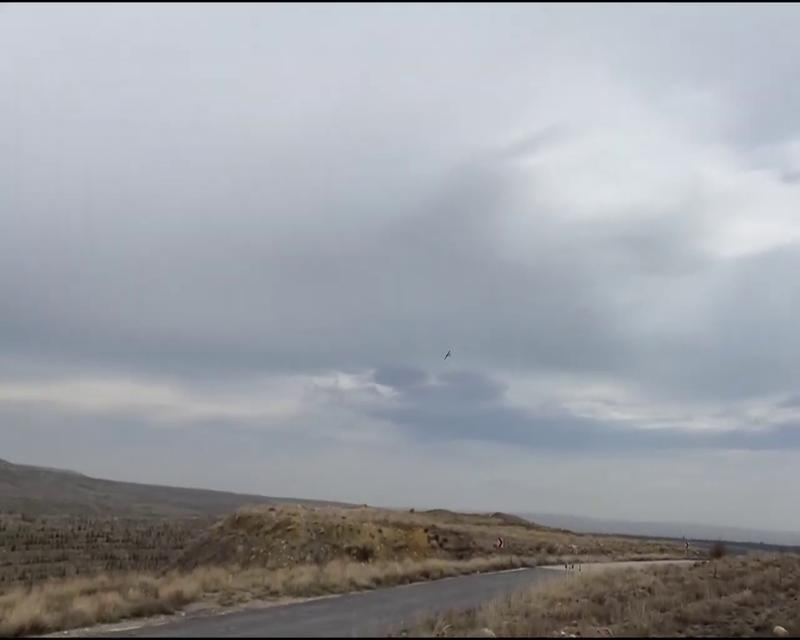UAV: (443, 351, 452, 363)
